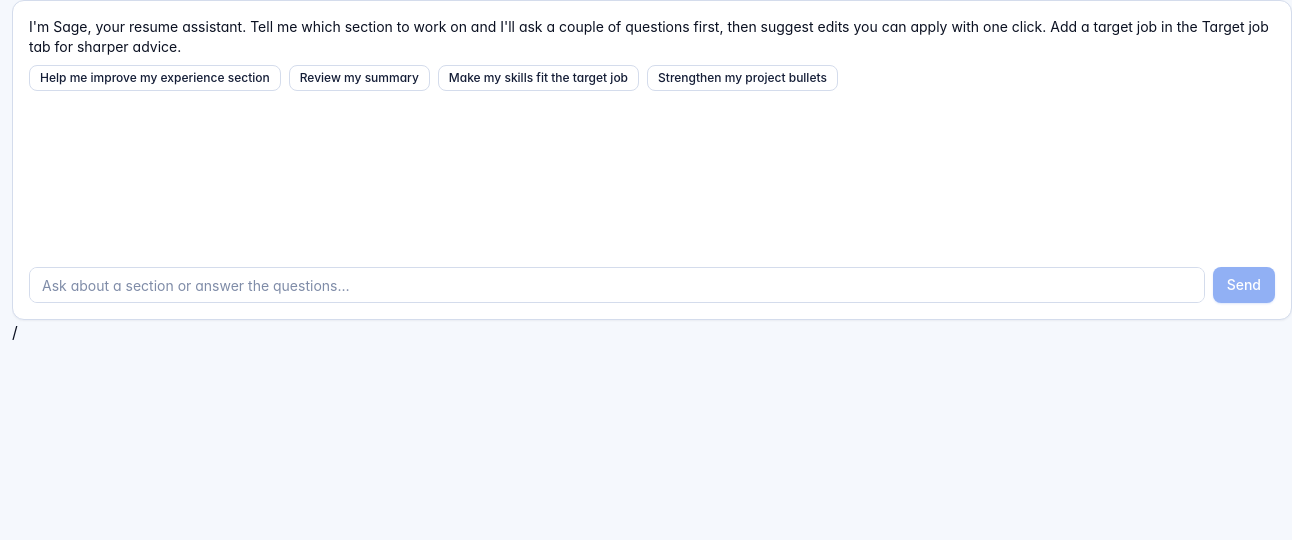
Scenario: chat scrolling › does not scroll to the bottom when a suggestion is applied
Type "change my phone" into the text box named "message the resume counselor". click: {"x": 617, "y": 285}
box: [29,267,1205,303]
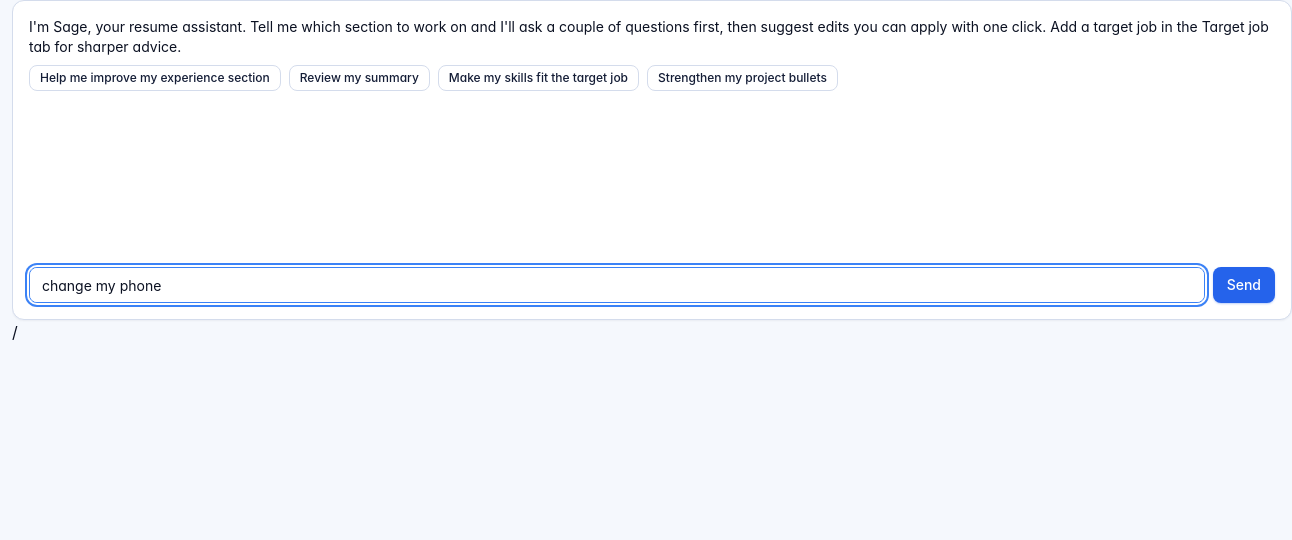
Click the button "Send". click: {"x": 1244, "y": 285}
box: [1213,267,1275,303]
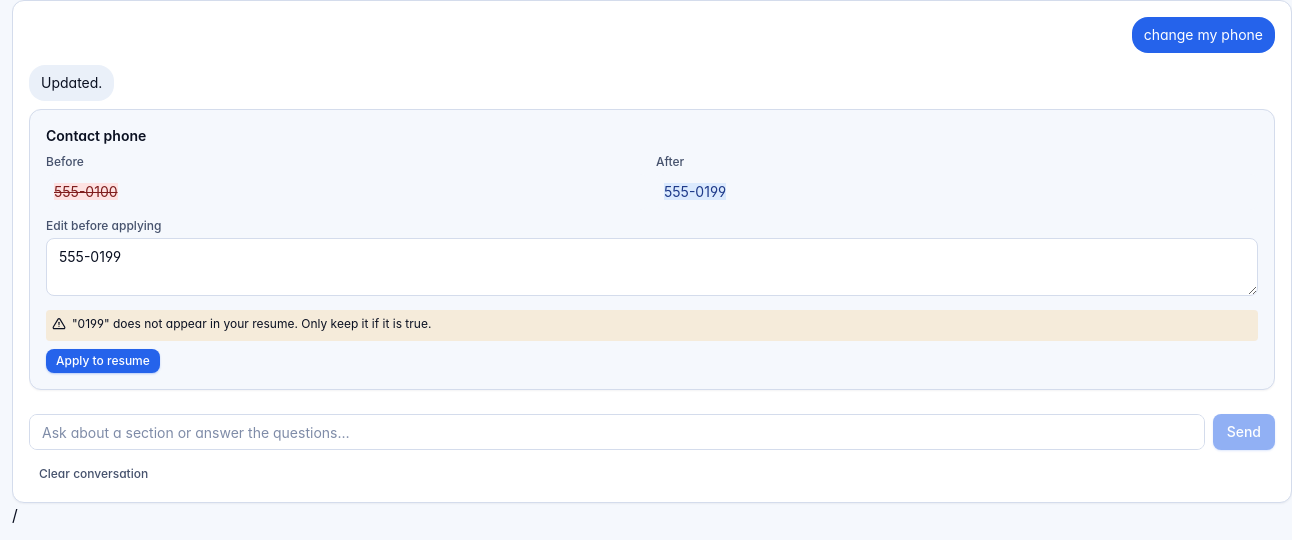
Click the button "Apply to resume". click: {"x": 103, "y": 361}
box: [46,349,160,373]
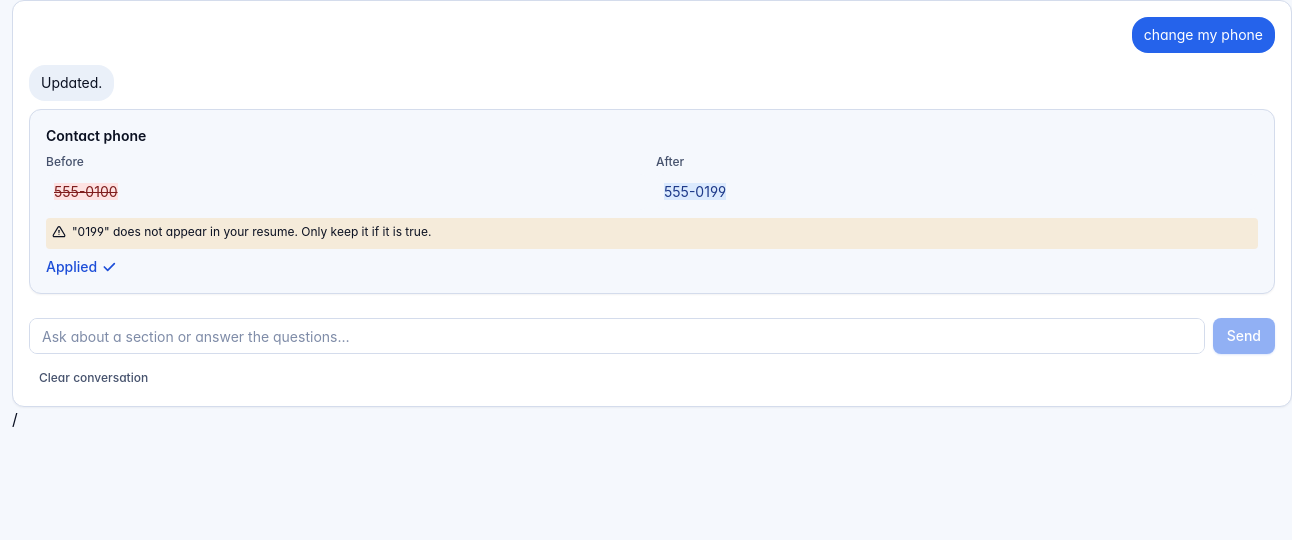
Result: the text "Applied" is shown at [46,257,117,277]
